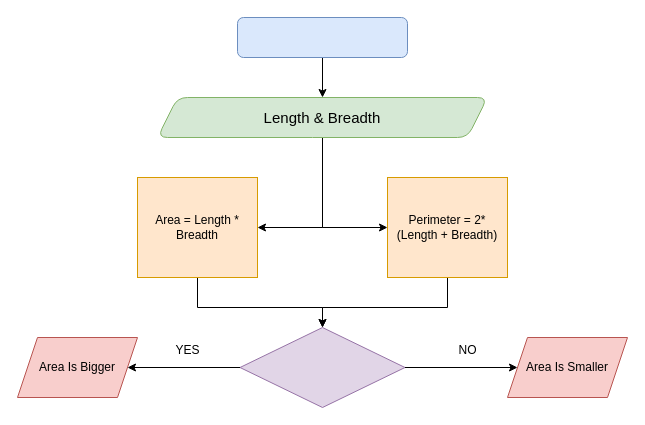
This 645x425 diagram has some shape labels left out. The box of each missing label's shape, as (x1, y1, x2, y2) in pixels:
Check Area > Perimeter: (239, 326, 405, 408)
START: (236, 16, 408, 58)
